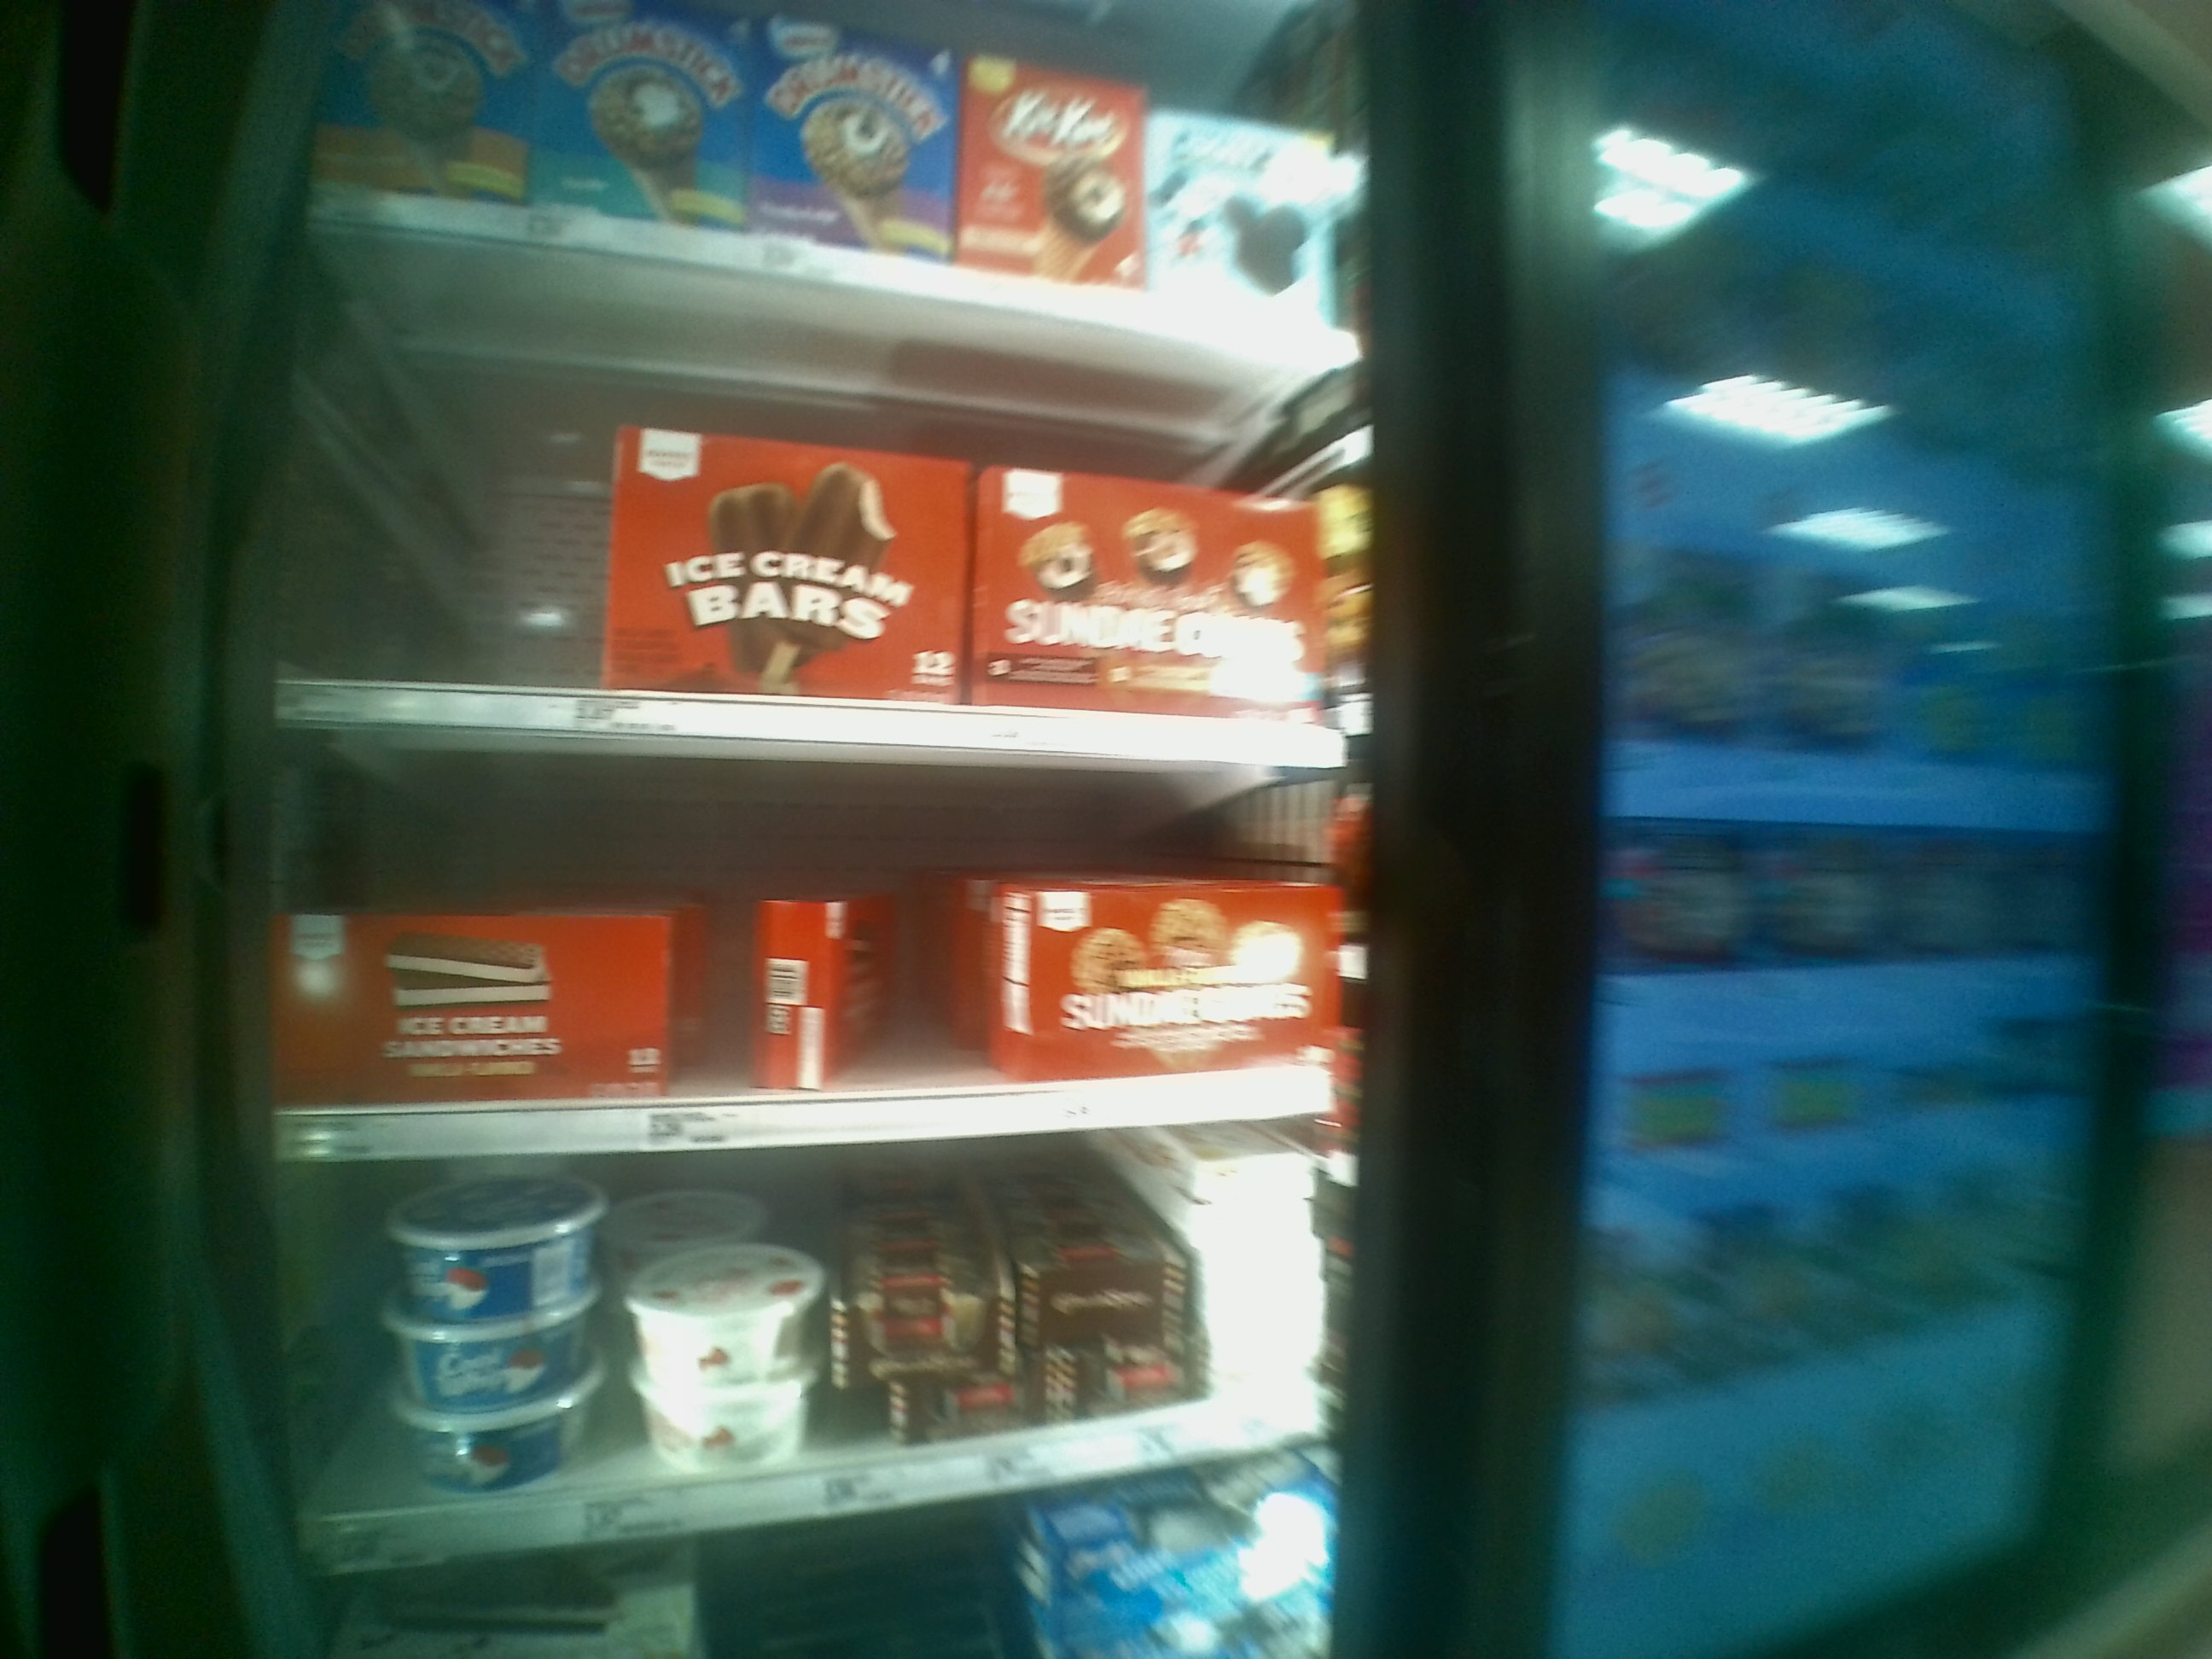frozen-food-shelf: (279, 350, 1355, 769), (261, 767, 1367, 1173)
